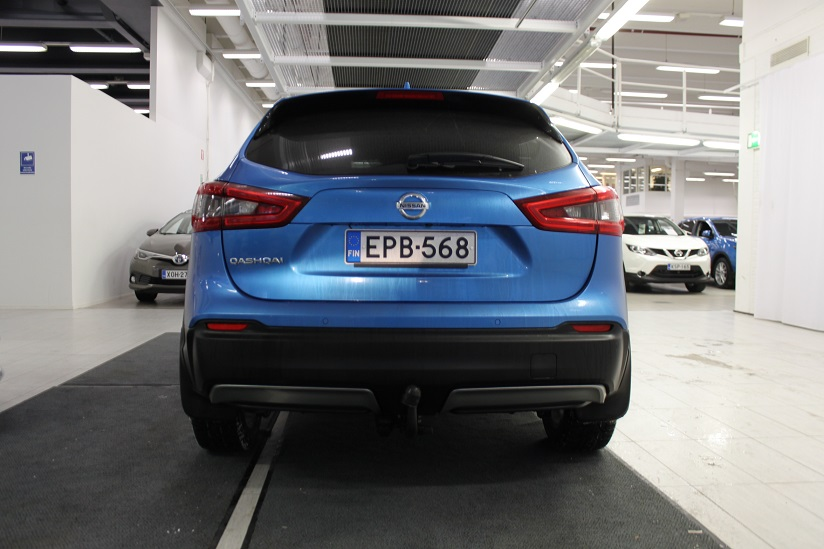license: (344, 231, 476, 265)
